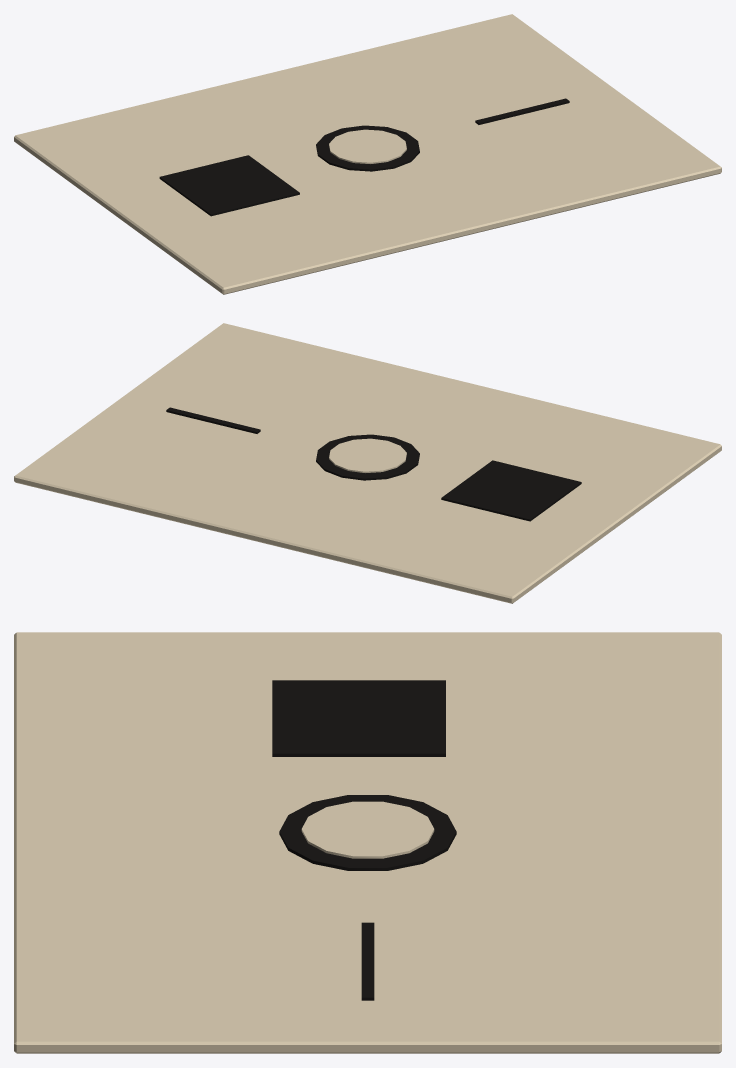
File: frost_sketch.glb
The picture shows the model from 3 angles, top to bottom: view 1: azimuth 30°, elevation 25°; view 2: azimuth 150°, elevation 25°; view 3: azimuth 270°, elevation 25°; orthographic projection. The views are drawn at different scales.
Parts seen in each view (by area): view 1: frost_sketch; view 2: frost_sketch; view 3: frost_sketch.
Part boxes in pixels (x1,y1,x2,y2): frost_sketch: (14,14,721,294); frost_sketch: (14,323,721,603); frost_sketch: (14,632,721,1053).
Size of the model in its own units: 0.11 by 0.0025 by 0.08.
